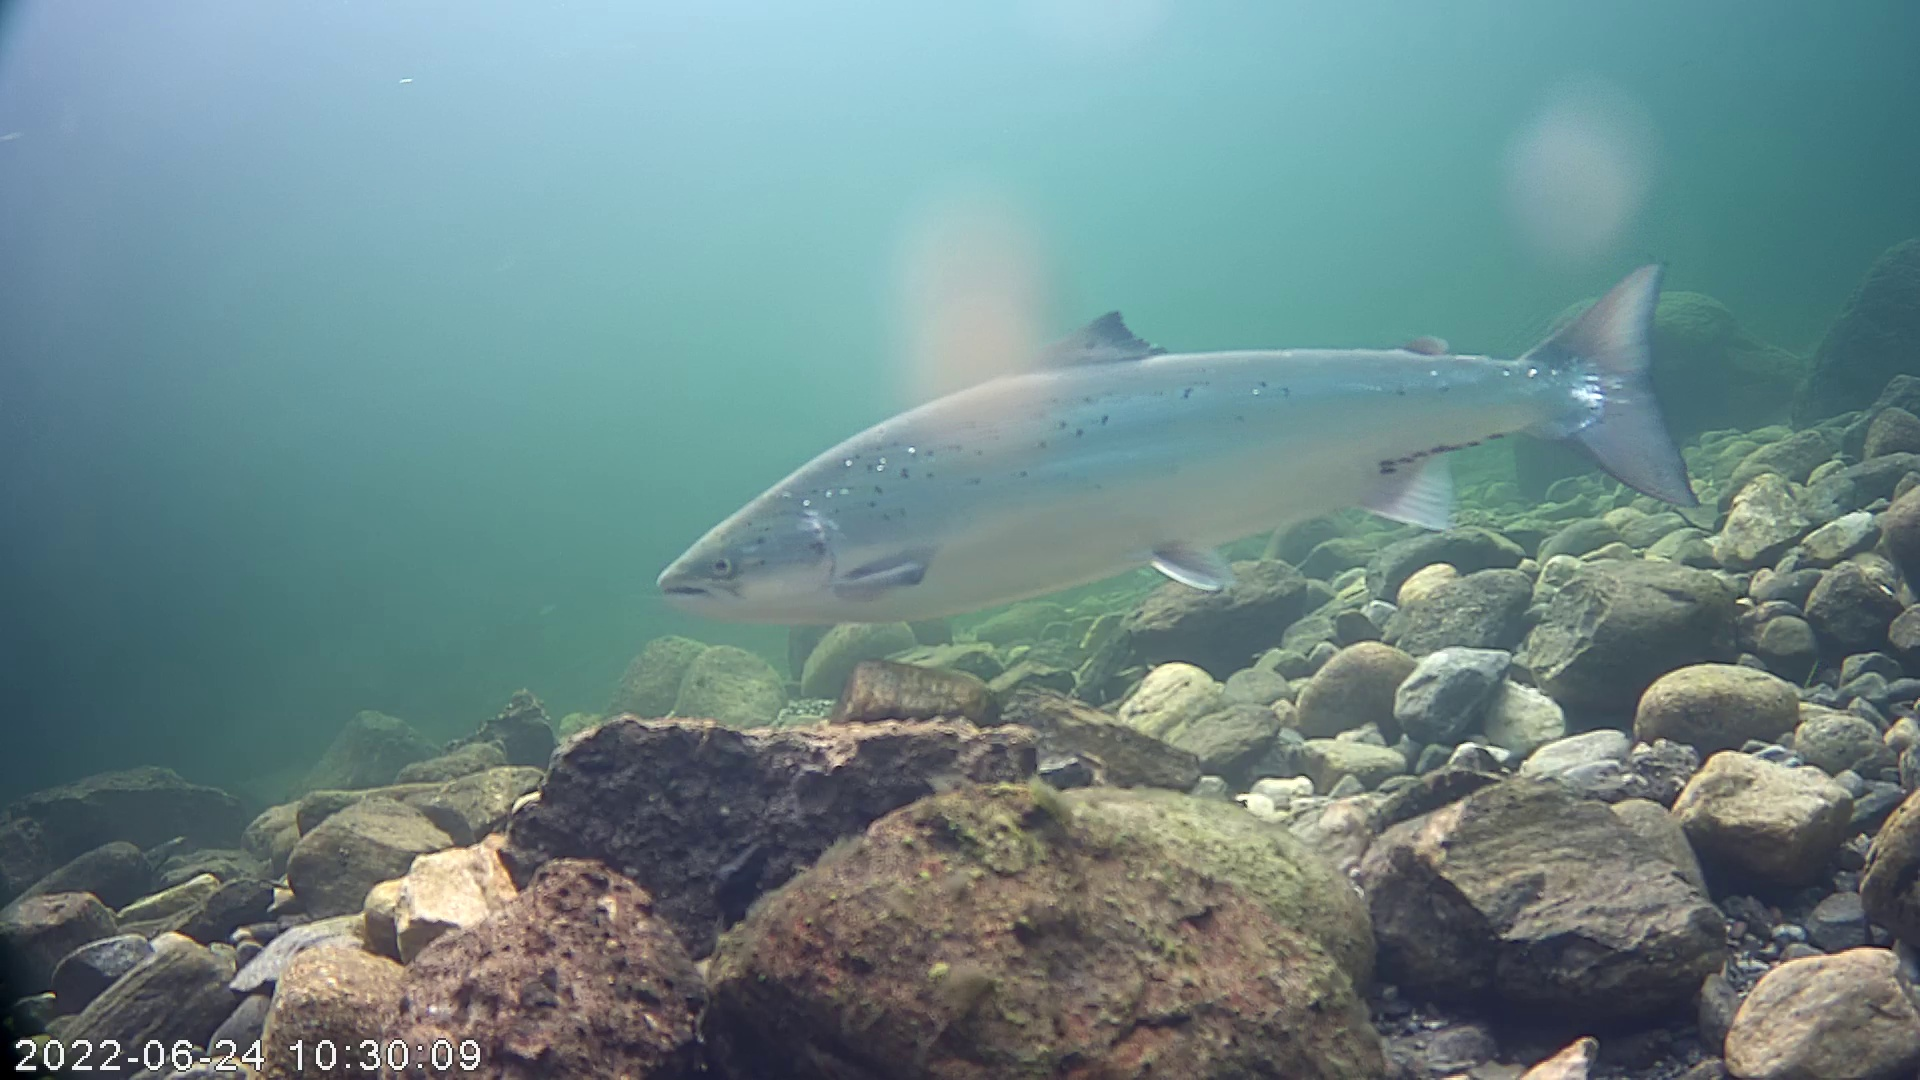salmon: (655, 260, 1705, 626)
